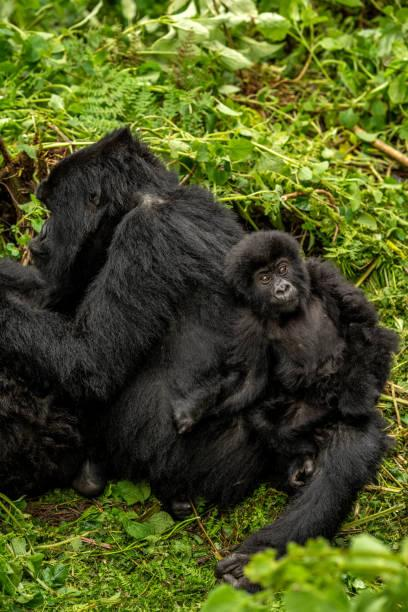goriile_montagne: (0, 131, 261, 474), (230, 227, 401, 497)
